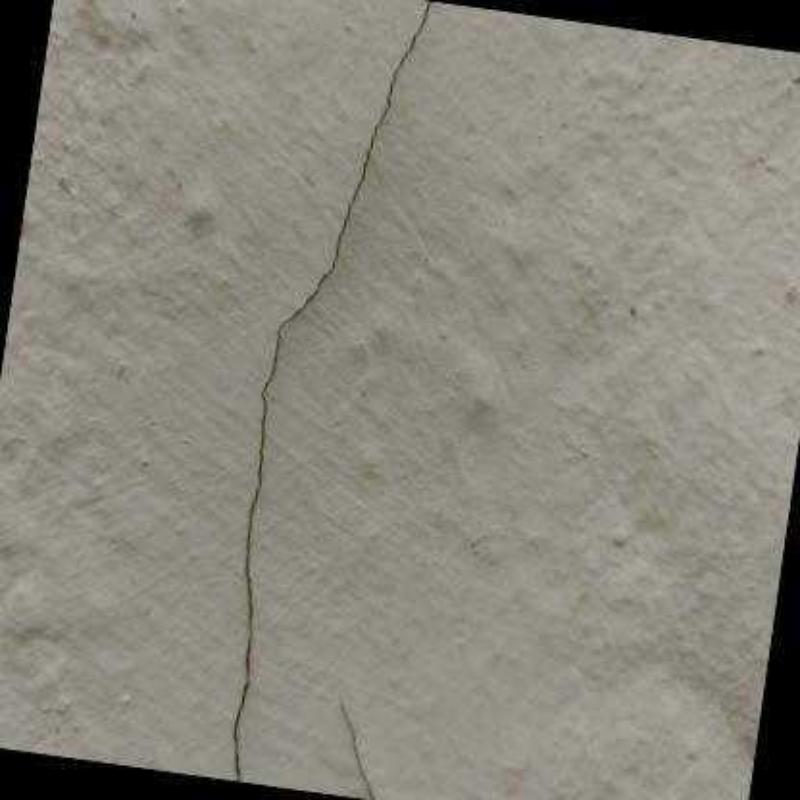crack: (233, 2, 433, 782), (340, 695, 374, 798)
